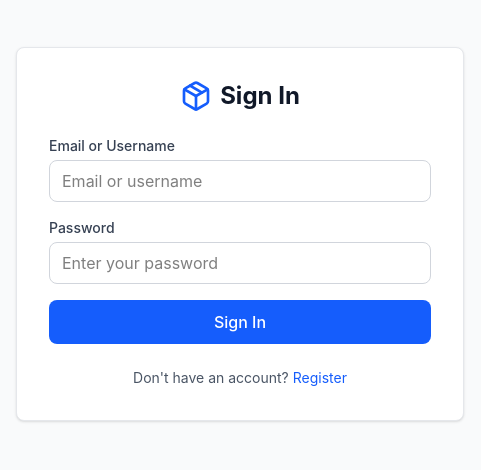
LoginPage › shows error on failed login
Step 1. Type "test@test.com" into the field with test id "login-email" → (240, 181), box [49,160,431,202]
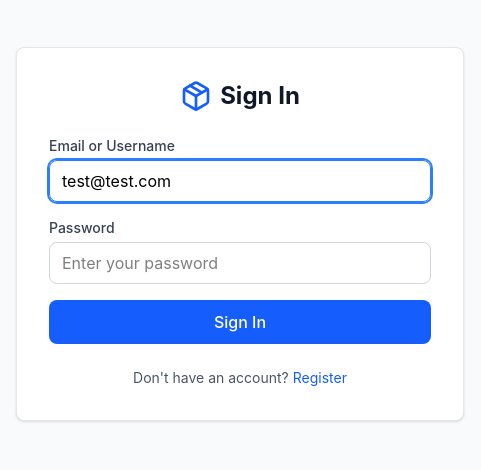
Step 2. Type "wrong" into the password field with test id "login-password" → (240, 263), box [49,242,431,284]
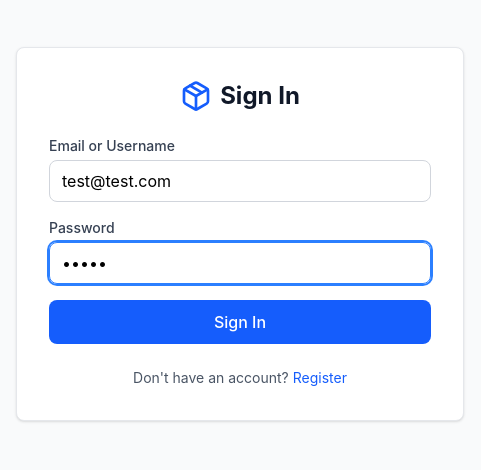
Step 3. Click the button with test id "login-submit" → click(240, 322), box [49,300,431,344]
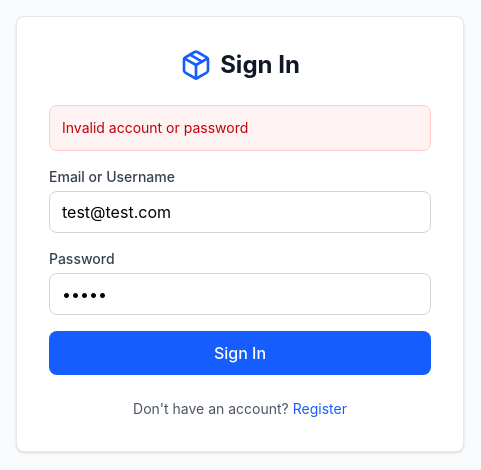
Result: the text "Invalid account or password" is shown at [49,105,431,151]
